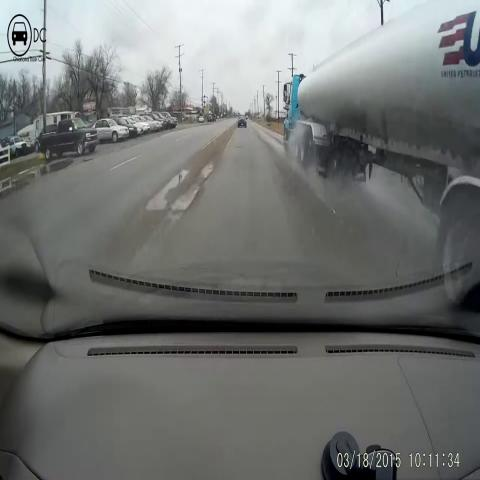pothole: (142, 148, 225, 232), (234, 137, 246, 152)
